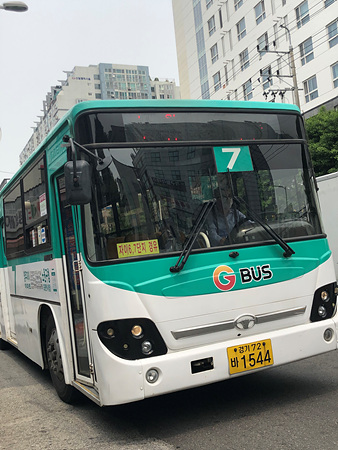bnum: (219, 145, 246, 169)
